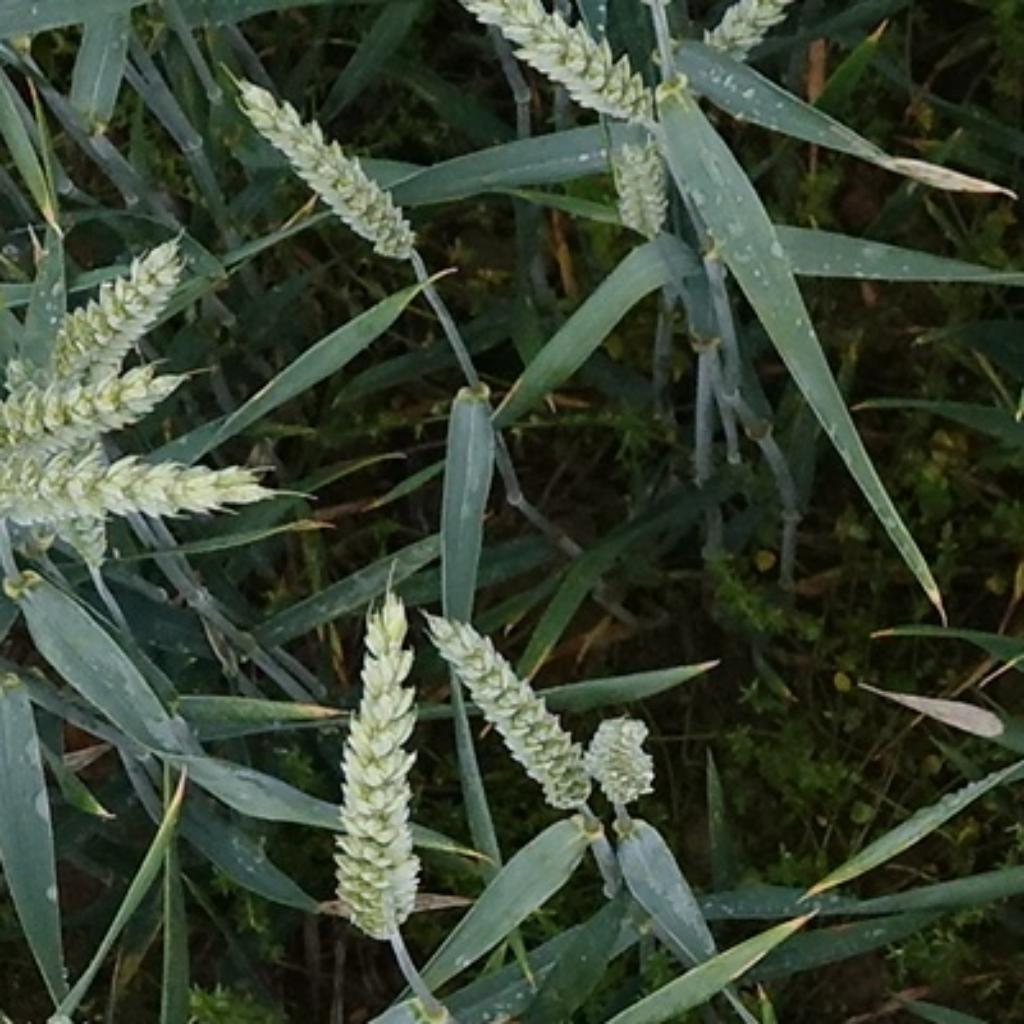0-0: (312, 559, 447, 947), (230, 74, 429, 274), (422, 601, 595, 826), (460, 2, 683, 120), (3, 448, 279, 537), (35, 232, 192, 376), (12, 337, 181, 442), (578, 698, 660, 815), (600, 138, 676, 248), (696, 2, 791, 56)
